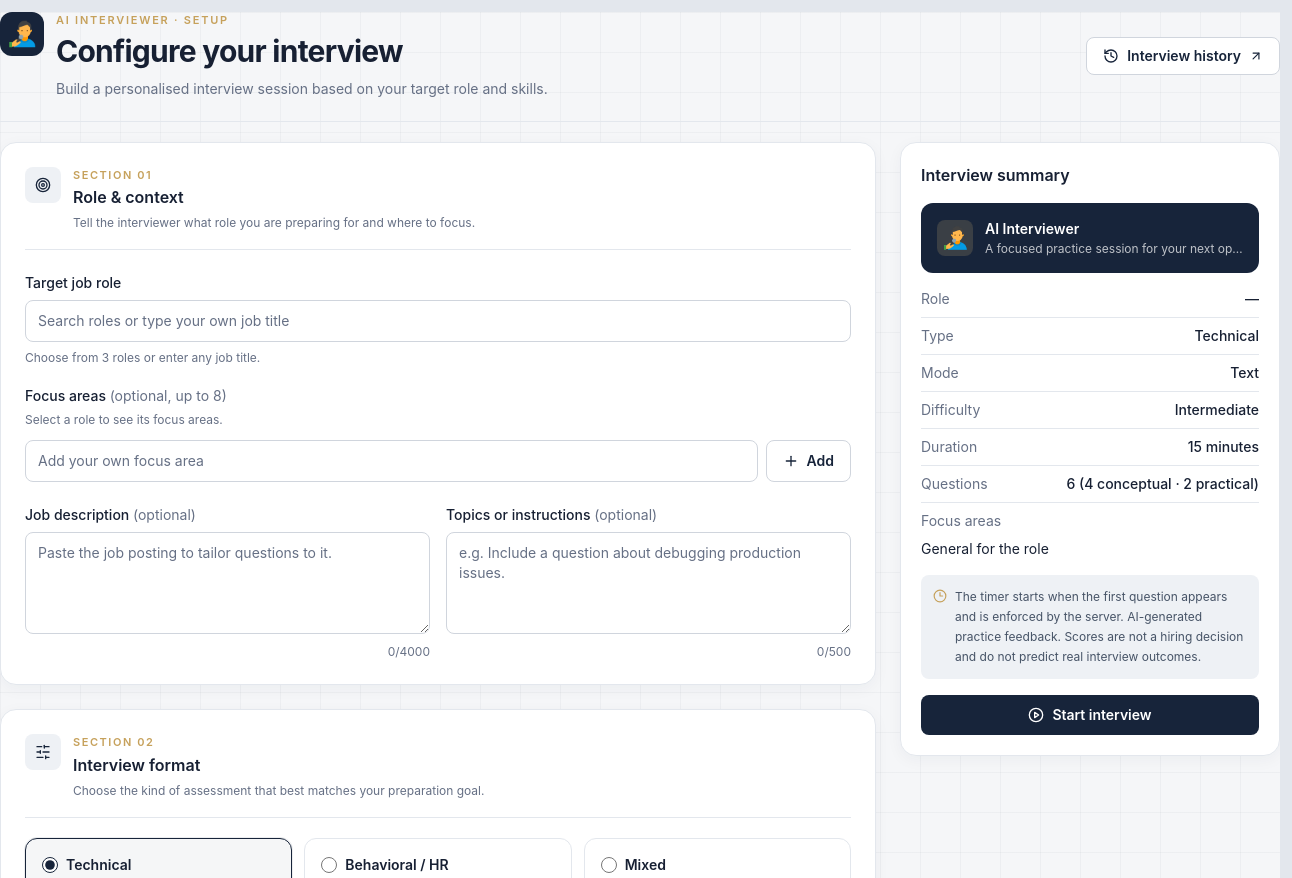
Test: only role-relevant profile skills are suggested
This screenshot has width=1292, height=878.
Type "Frontend Developer" into the field labelled "Target job role" at [438, 321], box [25, 300, 851, 342]
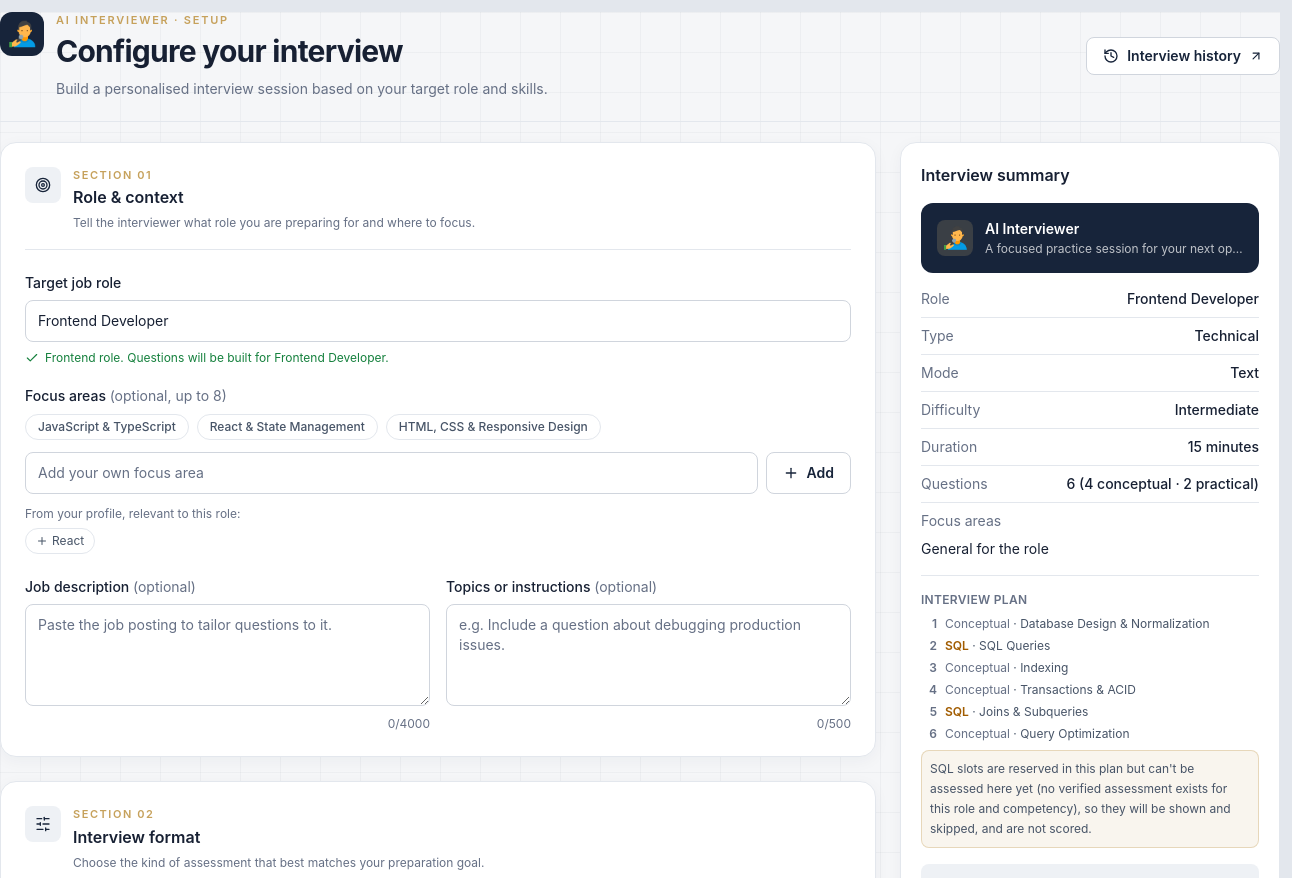
Check: the text "From your profile, relevant to this role:" is shown, box [25, 506, 240, 521]
Check: the button "React" is shown, box [25, 528, 95, 554]
